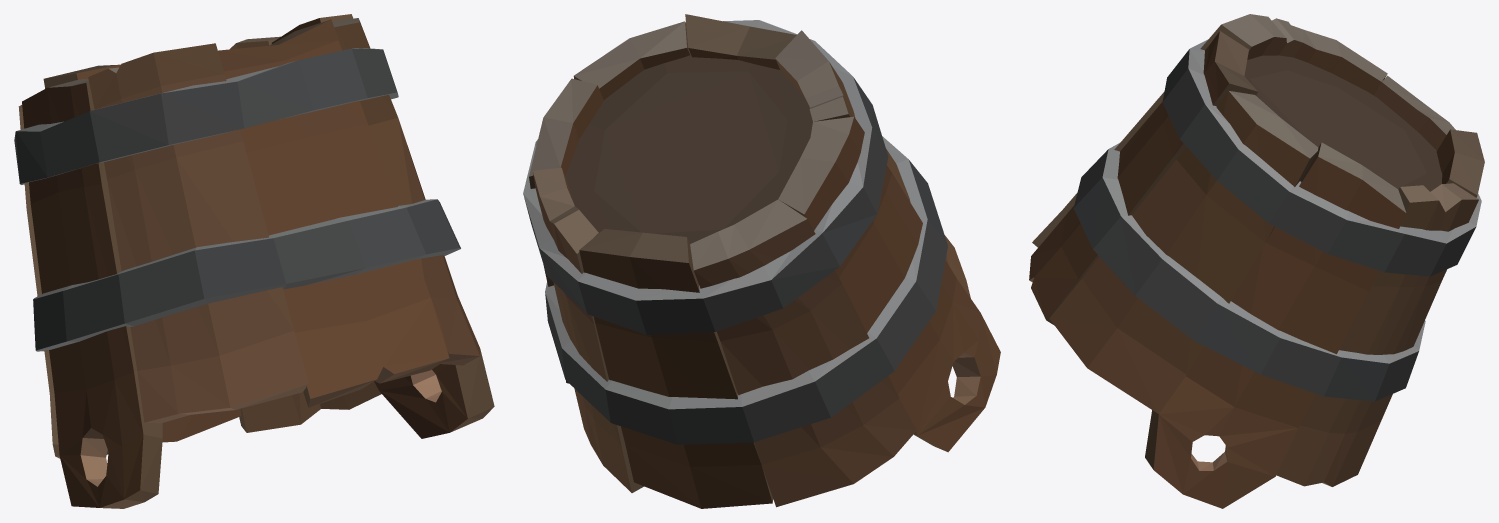
The model's file is bucketHatFemale.glb.
The picture shows the model from 3 angles, left to right: view 1: azimuth 30°, elevation 25°; view 2: azimuth 150°, elevation 25°; view 3: azimuth 270°, elevation 25°; orthographic projection. The views are drawn at different scales.
Parts seen in each view (by area): view 1: bucketHat; view 2: bucketHat; view 3: bucketHat.
Part boxes in pixels (x1=…): bucketHat: x1=14, y1=14, x2=494, y2=508; bucketHat: x1=523, y1=14, x2=1000, y2=508; bucketHat: x1=1029, y1=14, x2=1484, y2=508.
Bounding box in the file's own units: 0.3886 × 0.4302 × 0.4377.
